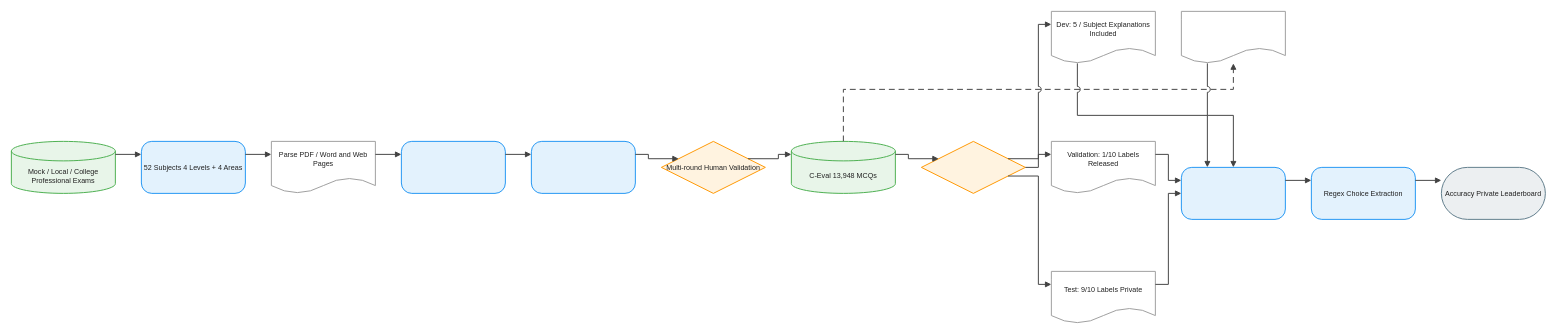
This 1557x335 diagram has some shape labels left out. Each missing label, with the centre of its shape:
0 / 5-shot Answer-only + COT: pixel 1233 193
C-Eval Hard 8 STEM Subjects: pixel 1233 37
Deduplicate and Clean: pixel 583 167
Exactly 4 Choices Standard LaTeX: pixel 453 167
Per-subject Split: pixel 973 167
